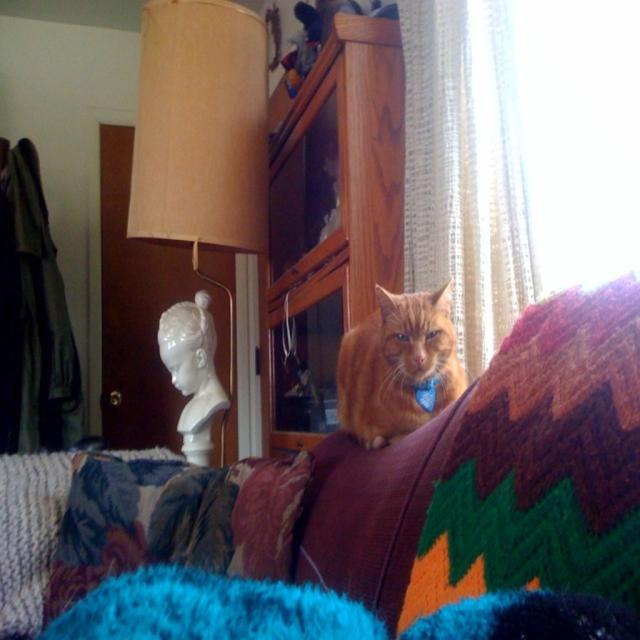Cat: (332, 268, 468, 450)
